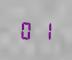one: (35, 19, 50, 40)
zero: (19, 19, 34, 39)
